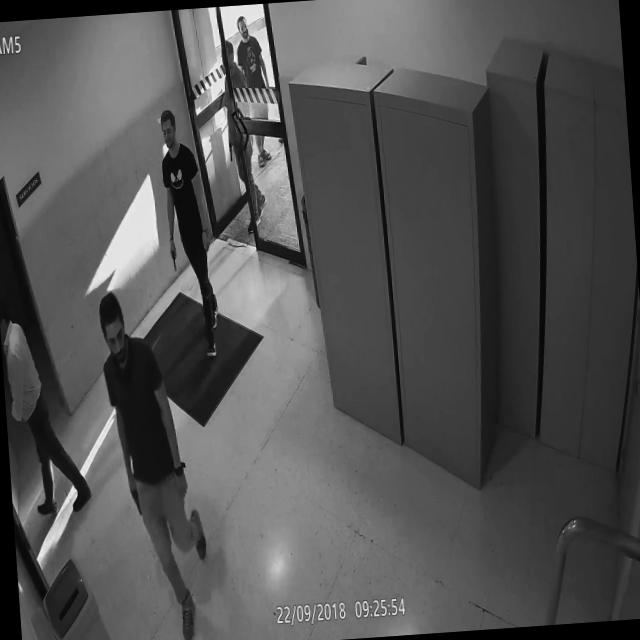gun: (126, 479, 148, 531), (168, 243, 182, 280), (226, 137, 237, 167)
person: (0, 297, 73, 519), (234, 10, 276, 173)
person with a gun: (95, 284, 212, 640), (154, 102, 227, 368), (218, 35, 268, 238)
